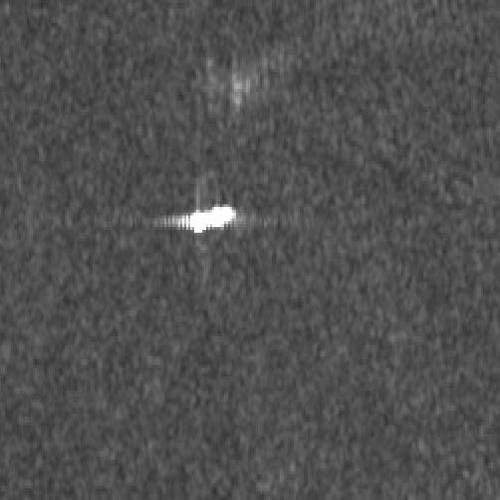ship: (183, 203, 237, 233)
